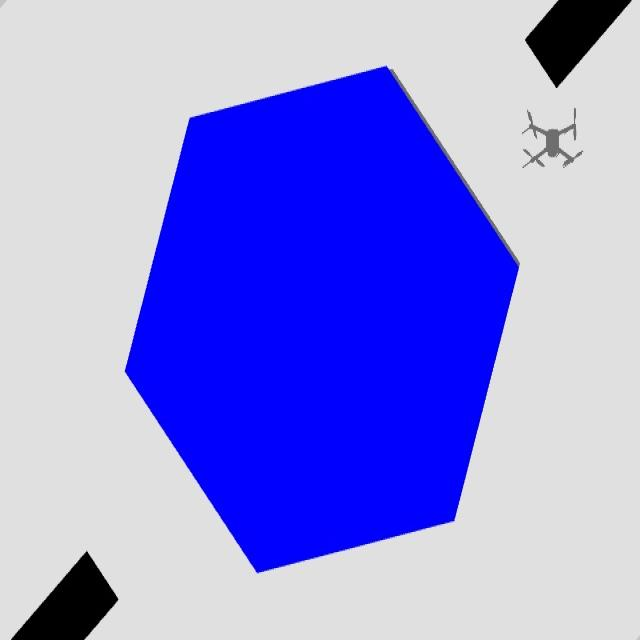blue_hexagon: (123, 64, 520, 574)
